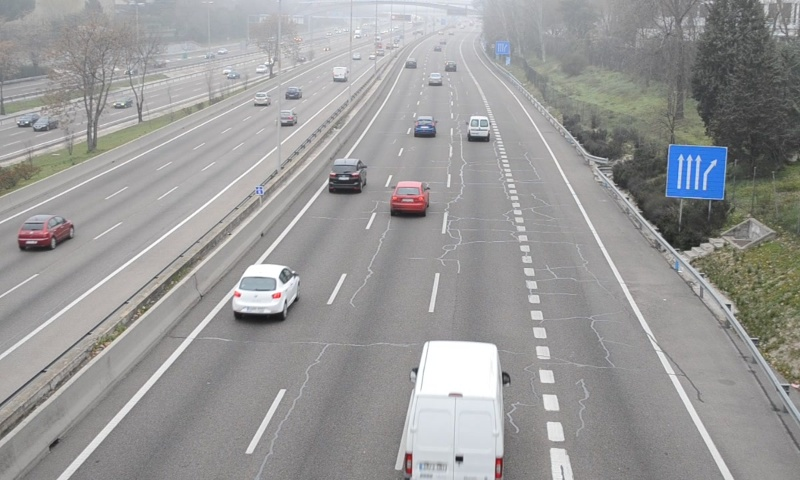car: (231, 264, 299, 315), (390, 180, 427, 215), (328, 158, 364, 191), (414, 115, 437, 137)
van: (402, 339, 505, 480), (467, 114, 491, 140)
